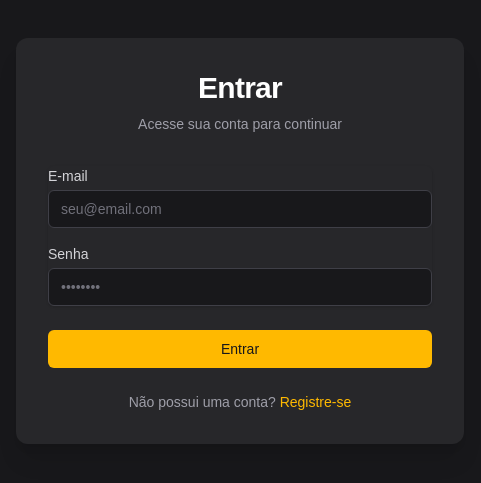
Scenario: RF2 - Autenticação de Usuário (Frontend) › deve exibir mensagem de erro para credenciais inválidas (401)
This screenshot has width=481, height=483.
Type "joao@email.com" into the field labelled "E-mail" at (240, 209), box [48, 190, 432, 228]
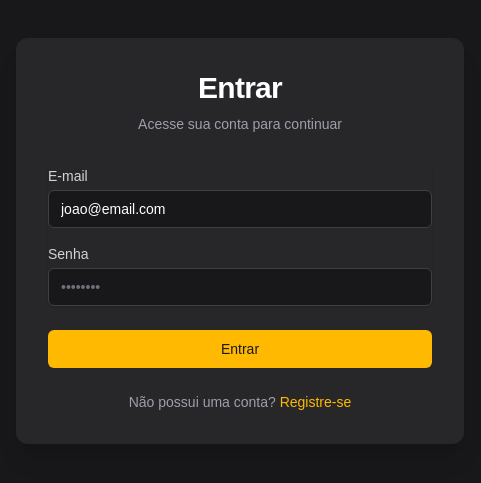
Type "errada" into the password field labelled "Senha" at (240, 287), box [48, 268, 432, 306]
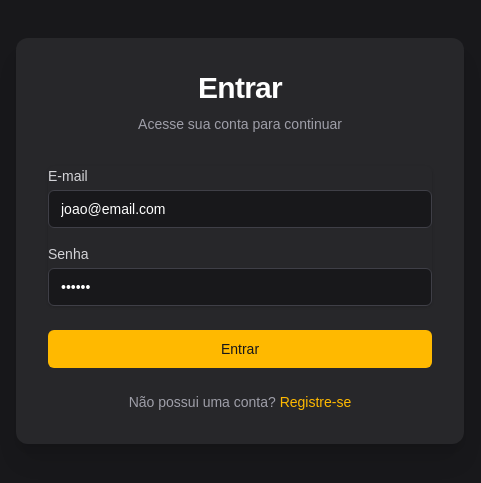
Click the button "Entrar" at (240, 349), box [48, 330, 432, 368]
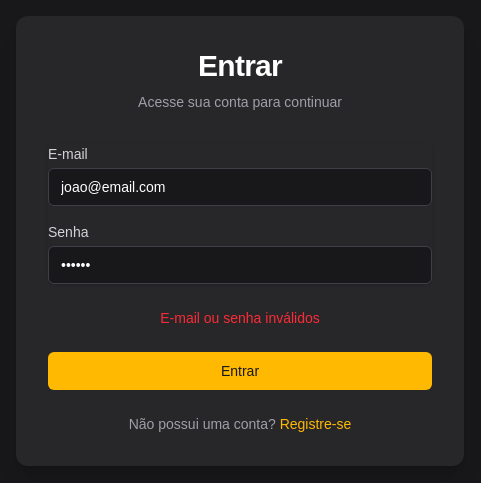
Now the text "E-mail ou senha inválidos" is shown, box [160, 310, 320, 326]
